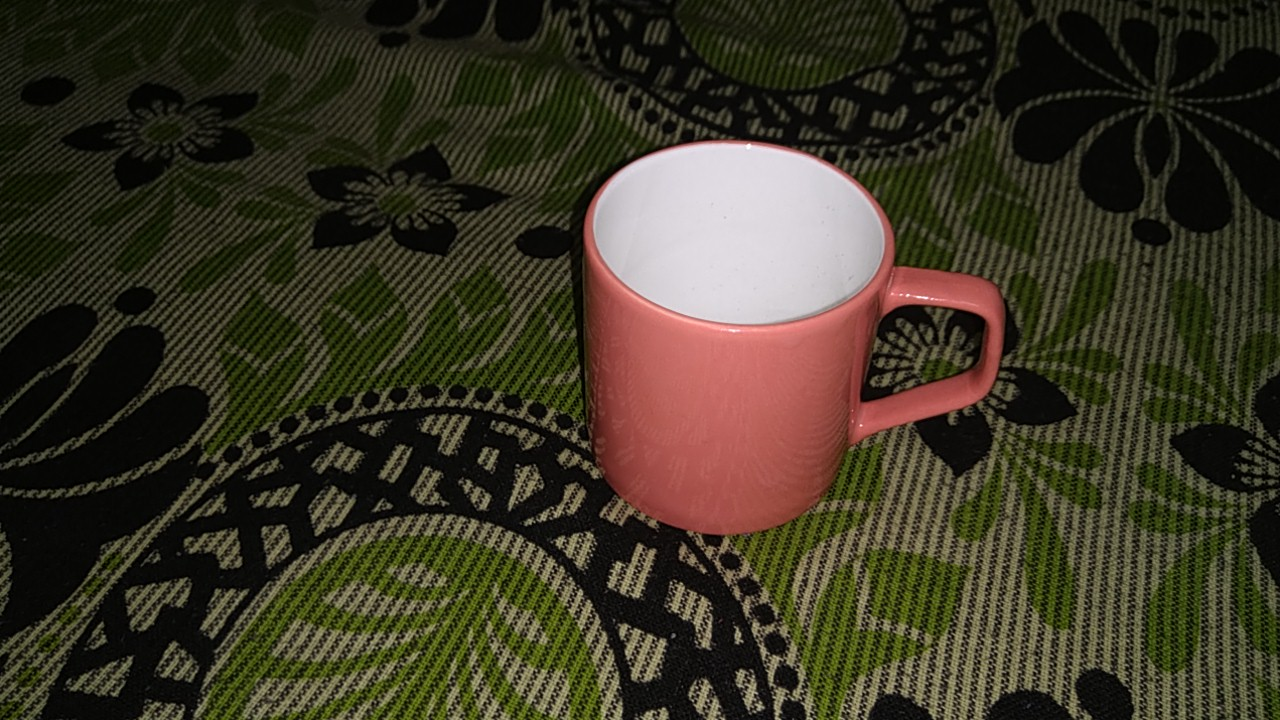cup: (546, 130, 1031, 545)
